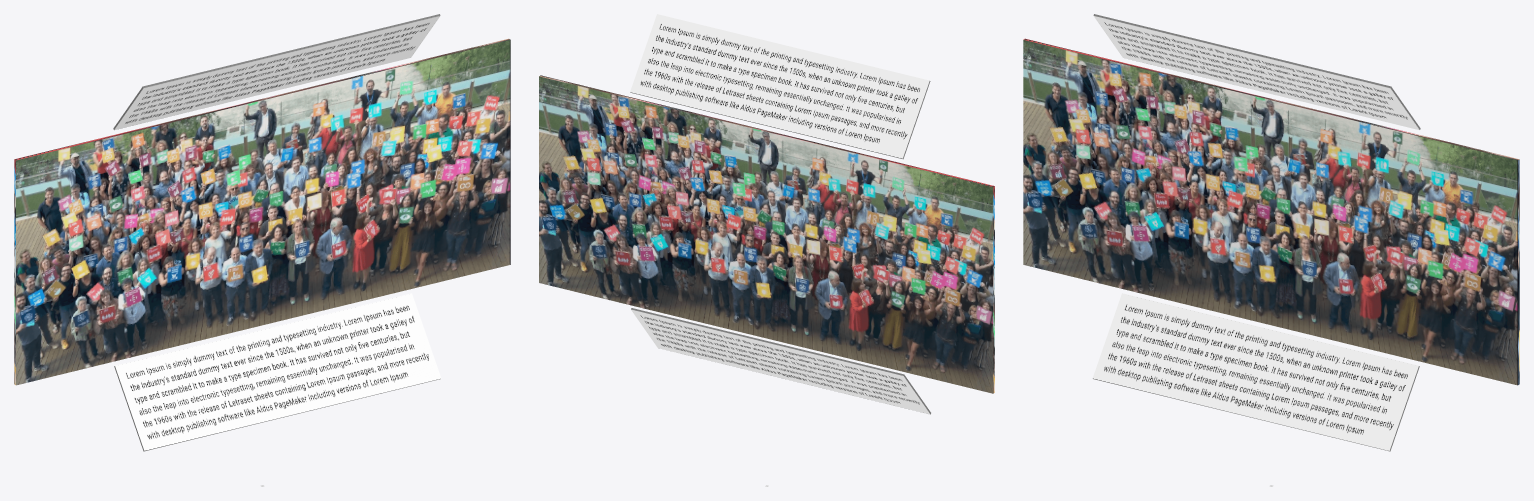
File: bundle000.glb
3 renders of one model, left to right at view 1: azimuth 30°, elevation 25°; view 2: azimuth 150°, elevation 25°; view 3: azimuth 330°, elevation 25°, orthographic. The views are drawn at different scales.
Visible parts, largest first — view 1: Board 001, Board 001.002, Board 001.001; view 2: Board 001, Board 001.001, Board 001.002; view 3: Board 001, Board 001.002, Board 001.001.
Boxes of the visible parts, box(x1,y1,x2,y2) form: Board 001: box(14, 38, 510, 385); Board 001.002: box(114, 293, 441, 451); Board 001.001: box(113, 14, 440, 130); Board 001: box(539, 75, 994, 393); Board 001.001: box(630, 14, 930, 159); Board 001.002: box(631, 308, 930, 414); Board 001: box(1023, 38, 1519, 385); Board 001.002: box(1092, 293, 1419, 451); Board 001.001: box(1093, 14, 1420, 130).
Size of the model in its own units: 3.59 by 3.17 by 0.3933.
Materials: 3 (3 with a texture image).
